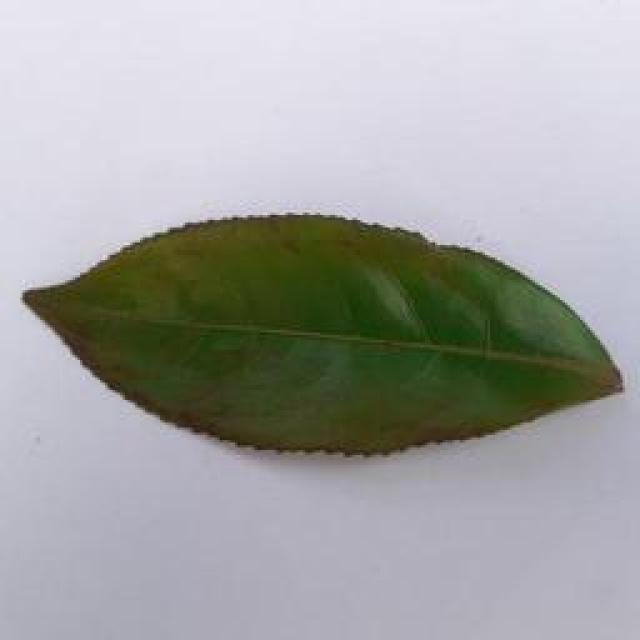Red Leaf Spot: (10, 205, 640, 475)
